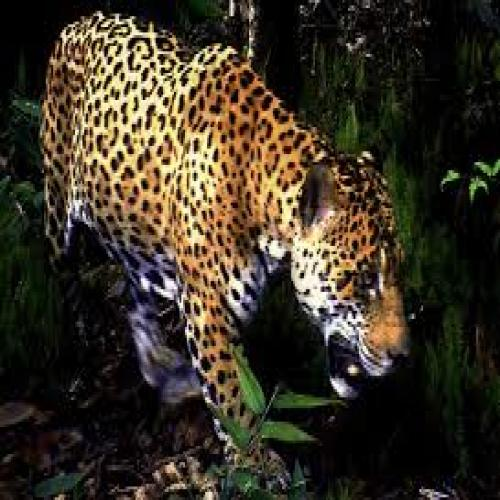jaguar_not-endangered: (49, 17, 408, 464)
